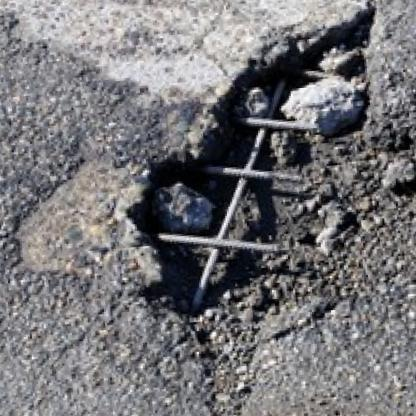pothole: (122, 16, 416, 335)
